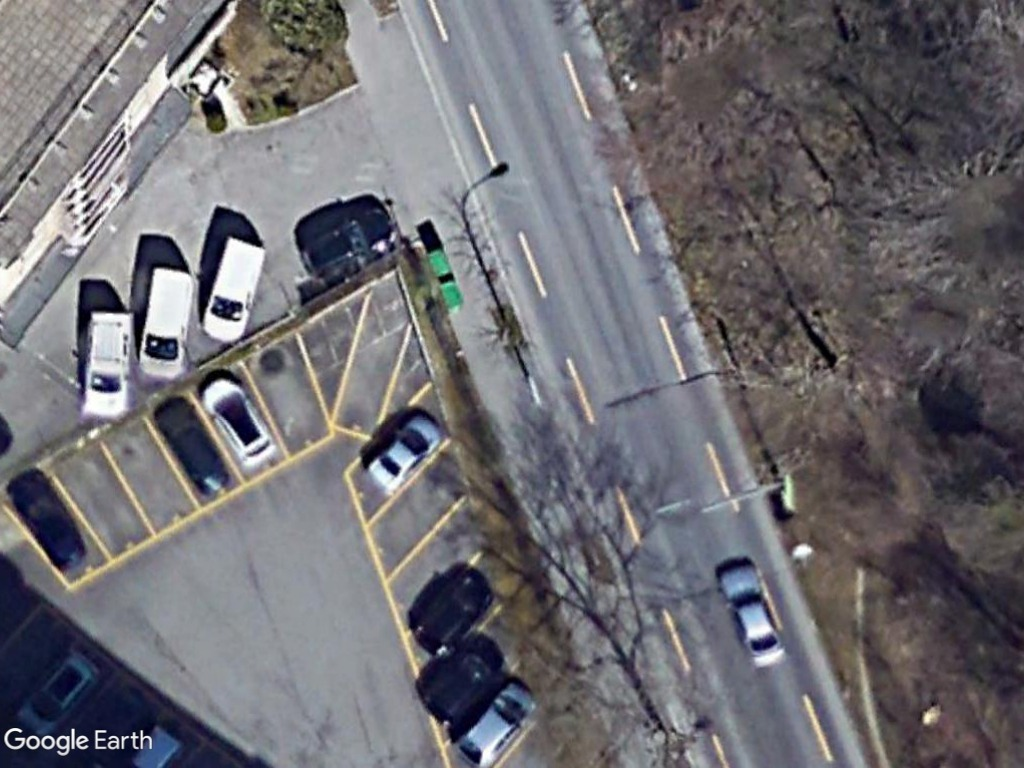car: (709, 560, 788, 667), (456, 680, 538, 767), (367, 412, 442, 493)
van: (198, 235, 268, 346), (139, 263, 194, 384), (78, 308, 134, 426)
